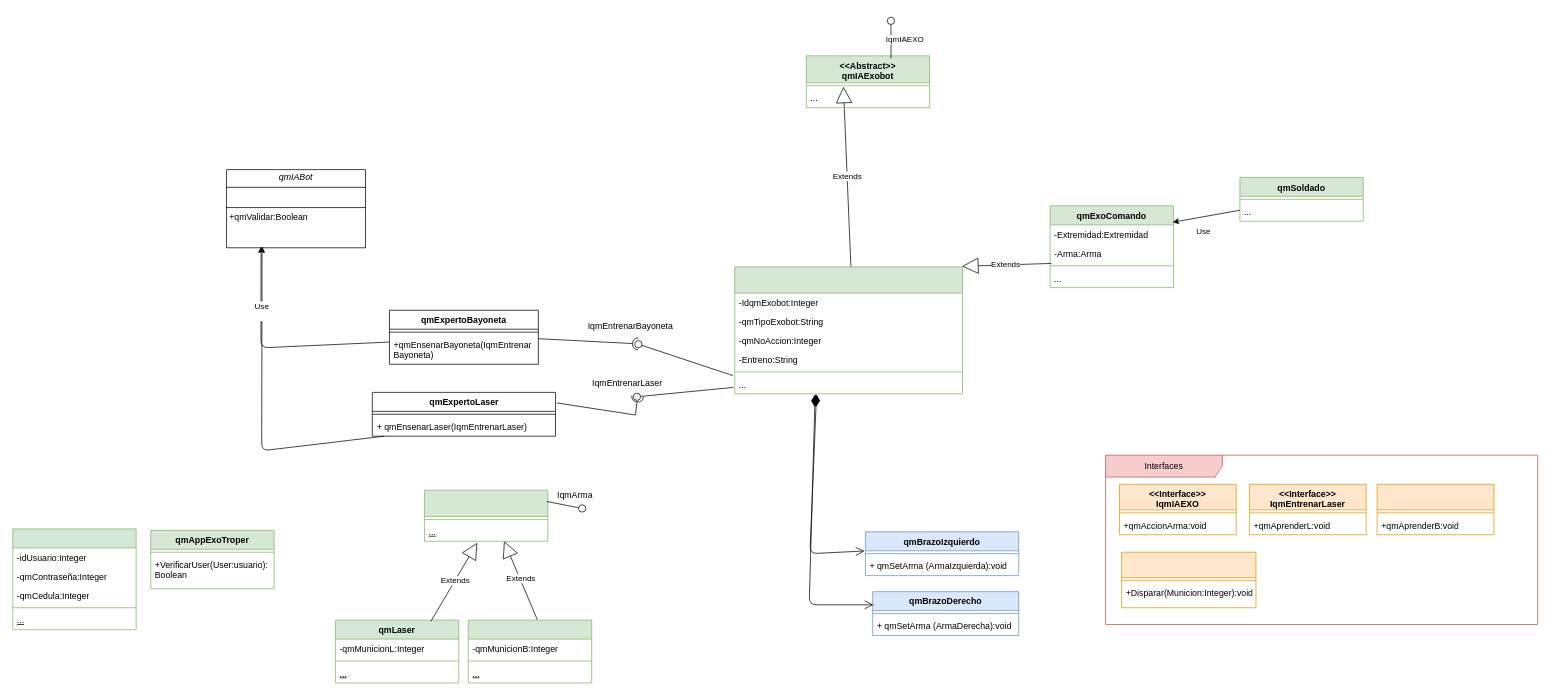
Some shapes in this 1551 by 698 pixel diagram are drawn without their labels. The box of each missing label's shape, as (x1, y1, x2, y2) in pixels:
<<Abstract>> qmExobot: (734, 266, 963, 394)
<<Abstract>> qmTipoArma: (424, 489, 548, 541)
<<Interface>> IqmArma: (1121, 552, 1256, 608)
<<Interface>> IqmEntrenarBayoneta: (1376, 484, 1494, 535)
qmBayoneta: (468, 619, 592, 683)
qmUsuario: (12, 528, 136, 630)
